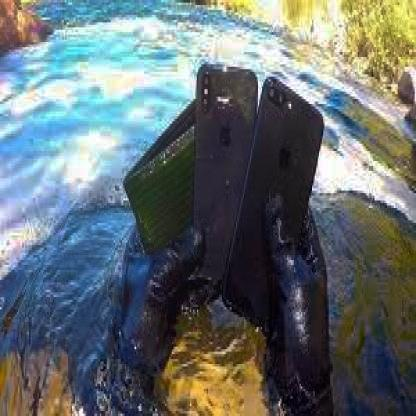cellphone: (228, 77, 324, 322), (196, 62, 260, 297)
